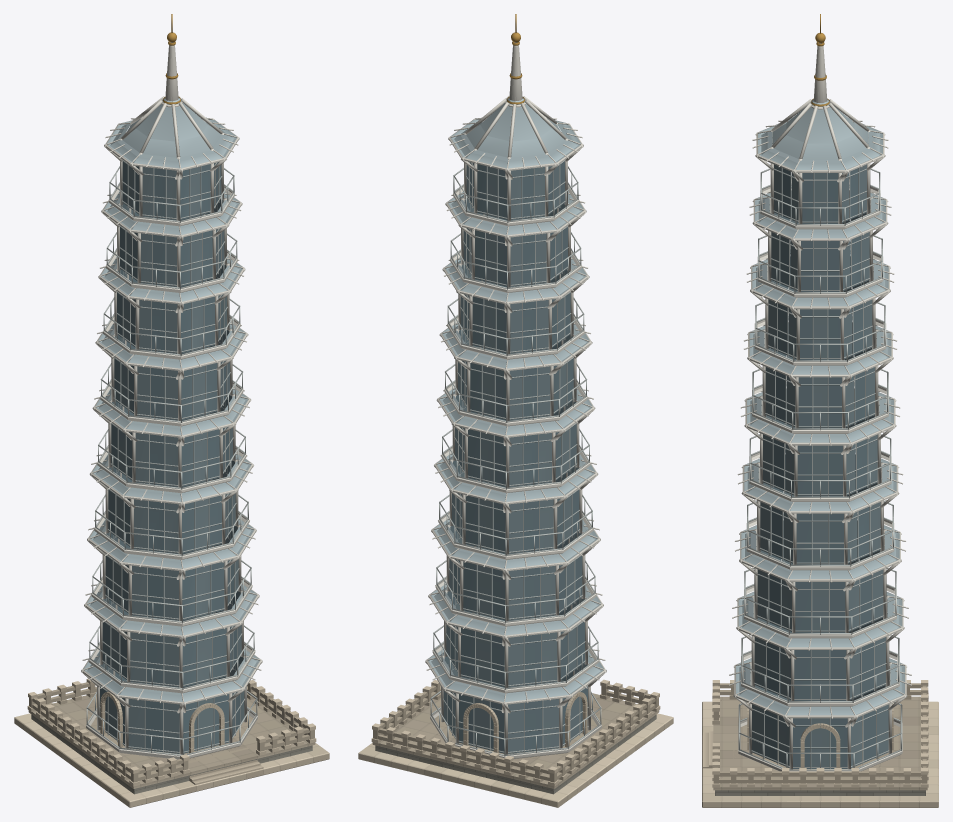
Rendered from 大报恩寺_网页版.glb.
3 renders of one model, left to right at view 1: azimuth 30°, elevation 25°; view 2: azimuth 150°, elevation 25°; view 3: azimuth 270°, elevation 25°, orthographic. The views are drawn at different scales.
Parts seen in each view (by area): view 1: 大报恩寺_WEB_建筑; view 2: 大报恩寺_WEB_建筑; view 3: 大报恩寺_WEB_建筑.
Part boxes in pixels (x1,y1,x2,y2): 大报恩寺_WEB_建筑: (14,14,329,807); 大报恩寺_WEB_建筑: (358,14,673,807); 大报恩寺_WEB_建筑: (702,14,938,807).
Size of the model in its own units: 10 by 34.64 by 10.
9 materials, 2 textured.
